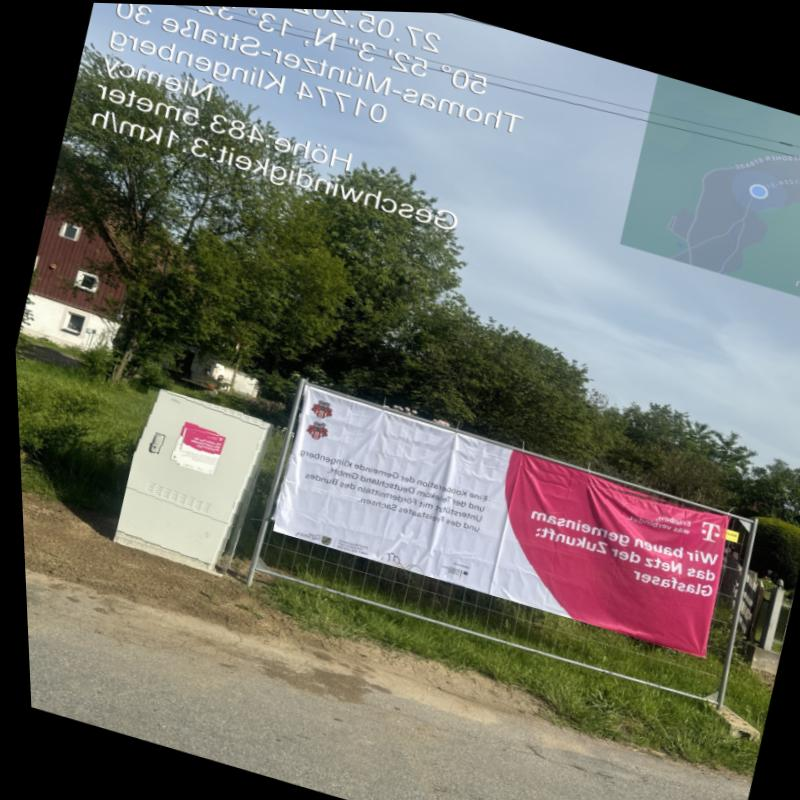Banner: (262, 388, 733, 654)
NT-Gehause: (109, 387, 267, 570)
Steaker: (171, 427, 221, 474)
